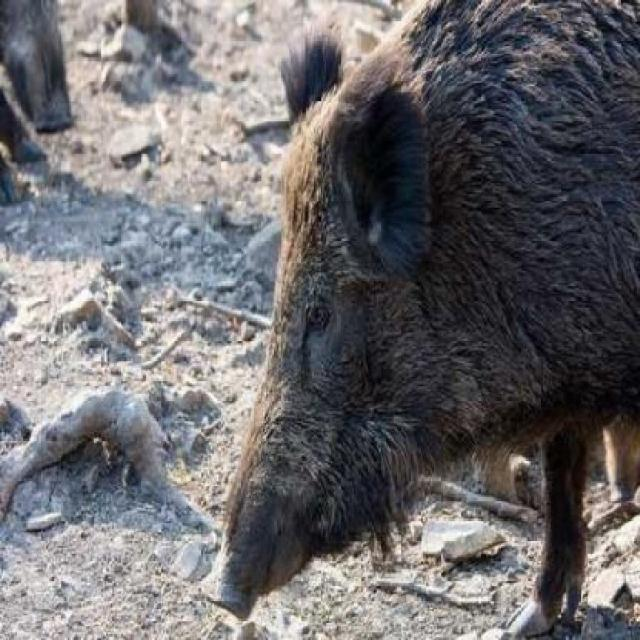pig: (158, 0, 639, 638)
